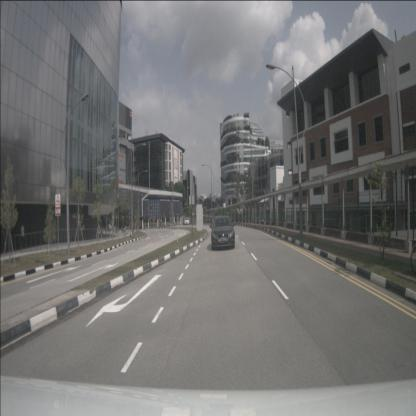human-pedestrian-adult: (20, 223, 26, 249)
vehicle-bicycle: (410, 226, 416, 276)
vehicle-car: (211, 216, 235, 251), (184, 217, 190, 226)
